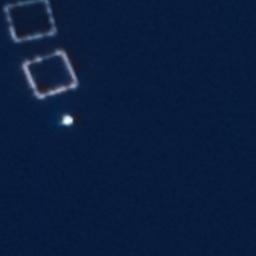square_solid: (19, 48, 85, 104), (1, 1, 61, 46)
